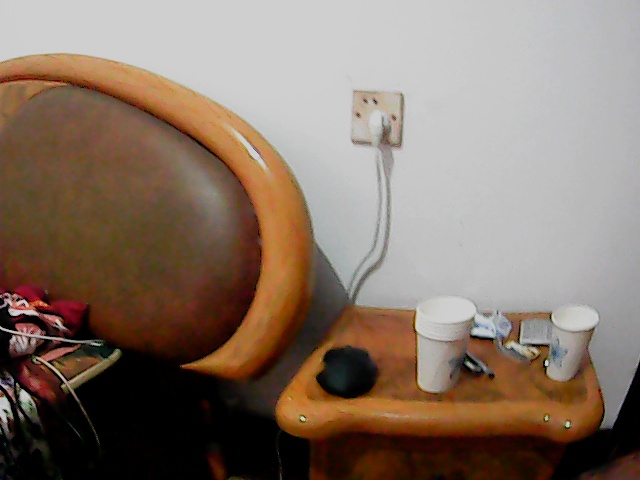cup: (413, 296, 475, 392)
mouse: (316, 343, 378, 399)
